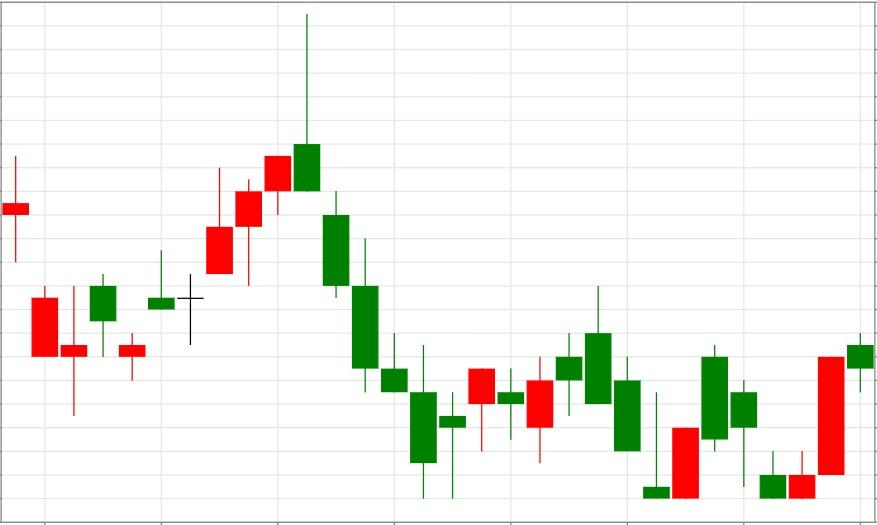shooting_star_fall: (117, 14, 320, 380)
